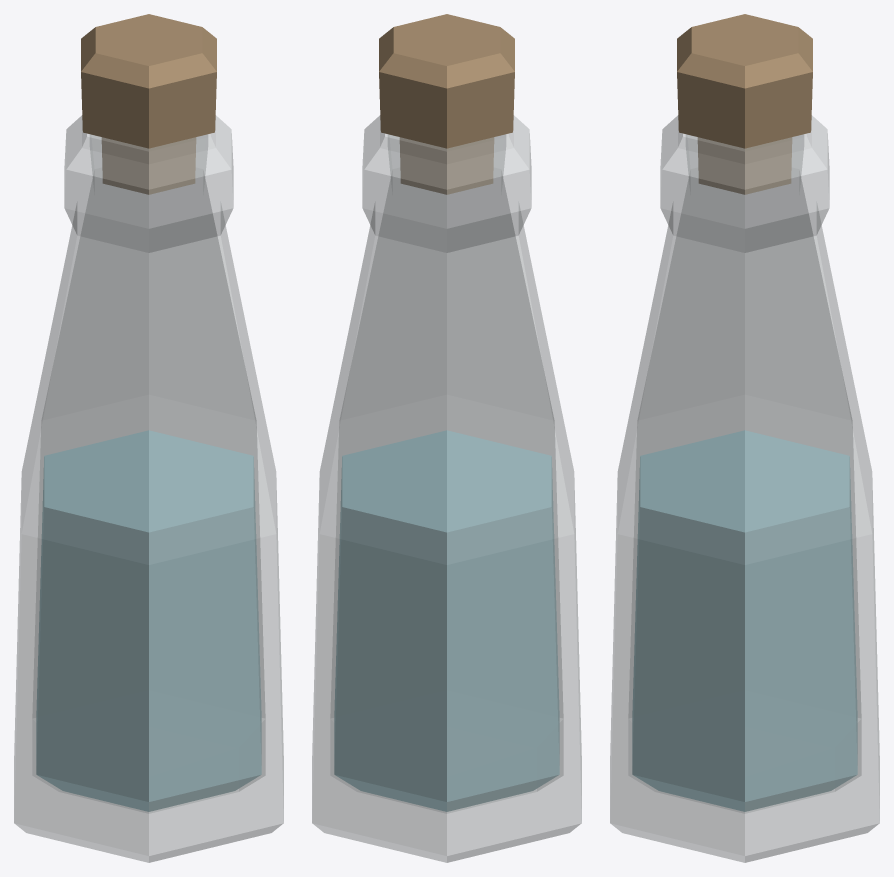
Rendered from water-carafe-6f1774.glb.
3 views of the same model, side by side, from view 1: azimuth 30°, elevation 25°; view 2: azimuth 150°, elevation 25°; view 3: azimuth 270°, elevation 25° (orthographic).
Visible parts, largest first — view 1: glass-vessel, water, stopper-cork; view 2: glass-vessel, water, stopper-cork; view 3: glass-vessel, water, stopper-cork.
Part boxes in pixels (x1,y1,x2,y2): glass-vessel: (14, 115, 283, 862); water: (36, 430, 261, 811); stopper-cork: (81, 14, 216, 194); glass-vessel: (312, 115, 581, 862); water: (334, 430, 559, 811); stopper-cork: (379, 14, 514, 194); glass-vessel: (610, 115, 879, 862); water: (632, 430, 857, 811); stopper-cork: (677, 14, 812, 194).
Size of the model in its own units: 0.111 by 0.3 by 0.0961.
